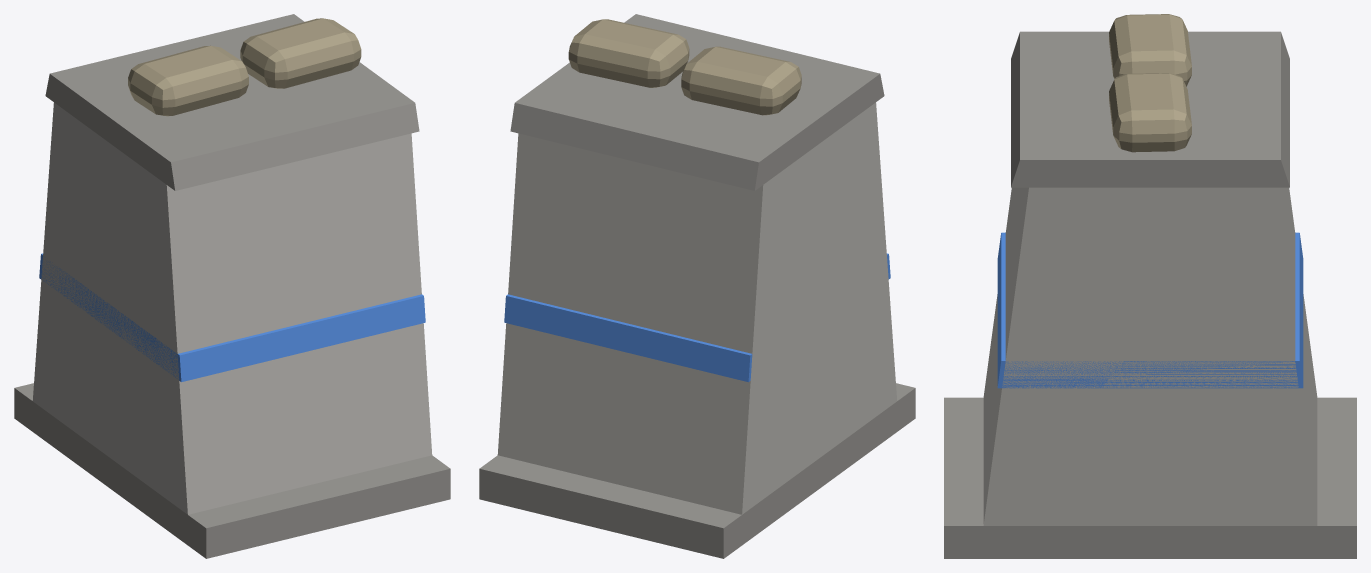
Rendered from wall_link_blue.glb.
The picture shows the model from 3 angles, left to right: view 1: azimuth 30°, elevation 25°; view 2: azimuth 150°, elevation 25°; view 3: azimuth 270°, elevation 25°; orthographic projection. The views are drawn at different scales.
Parts seen in each view (by area): view 1: Body; view 2: Body; view 3: Body.
Part boxes in pixels (box(x1,y1,x2,y2)): Body: box(14, 14, 450, 558); Body: box(479, 14, 915, 558); Body: box(944, 14, 1356, 558).
Size of the model in its own units: 1 by 1.6 by 1.36.
1 material, 1 textured.
